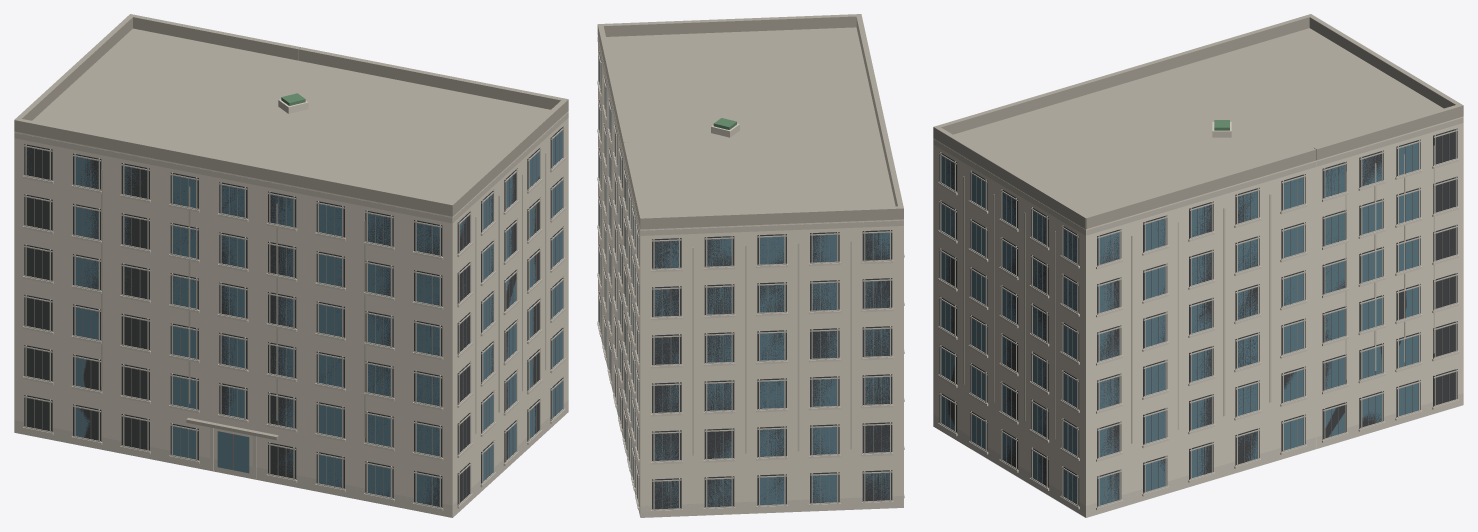
The model's file is cop_equipamento_especial_03__way_488128347.fbx.
3 views of the same model, side by side, from view 1: azimuth 30°, elevation 25°; view 2: azimuth 150°, elevation 25°; view 3: azimuth 270°, elevation 25° (orthographic). The views are drawn at different scales.
Parts seen in each view (by area): view 1: cop_equipamento_especial_03__way_488128347_wall, cop_equipamento_especial_03__way_488128347_roof, cop_equipamento_especial_03__way_488128347_glass, cop_equipamento_especial_03__way_488128347_shadow, cop_equipamento_especial_03__way_488128347_trim, cop_equipamento_especial_03__way_488128347_stone, cop_equipamento_especial_03__way_488128347_metal; view 2: cop_equipamento_especial_03__way_488128347_roof, cop_equipamento_especial_03__way_488128347_wall, cop_equipamento_especial_03__way_488128347_shadow, cop_equipamento_especial_03__way_488128347_glass, cop_equipamento_especial_03__way_488128347_trim, cop_equipamento_especial_03__way_488128347_stone, cop_equipamento_especial_03__way_488128347_metal; view 3: cop_equipamento_especial_03__way_488128347_wall, cop_equipamento_especial_03__way_488128347_roof, cop_equipamento_especial_03__way_488128347_glass, cop_equipamento_especial_03__way_488128347_trim, cop_equipamento_especial_03__way_488128347_shadow, cop_equipamento_especial_03__way_488128347_stone, cop_equipamento_especial_03__way_488128347_metal.
Part boxes in pixels (x1=…): cop_equipamento_especial_03__way_488128347_wall: x1=14, y1=111, x2=568, y2=517; cop_equipamento_especial_03__way_488128347_roof: x1=14, y1=14, x2=568, y2=440; cop_equipamento_especial_03__way_488128347_glass: x1=27, y1=130, x2=562, y2=506; cop_equipamento_especial_03__way_488128347_shadow: x1=24, y1=126, x2=563, y2=507; cop_equipamento_especial_03__way_488128347_trim: x1=14, y1=112, x2=568, y2=508; cop_equipamento_especial_03__way_488128347_stone: x1=14, y1=99, x2=568, y2=517; cop_equipamento_especial_03__way_488128347_metal: x1=34, y1=133, x2=559, y2=505; cop_equipamento_especial_03__way_488128347_roof: x1=597, y1=14, x2=903, y2=229; cop_equipamento_especial_03__way_488128347_wall: x1=598, y1=37, x2=903, y2=517; cop_equipamento_especial_03__way_488128347_shadow: x1=598, y1=52, x2=892, y2=509; cop_equipamento_especial_03__way_488128347_glass: x1=599, y1=58, x2=889, y2=508; cop_equipamento_especial_03__way_488128347_trim: x1=597, y1=36, x2=903, y2=510; cop_equipamento_especial_03__way_488128347_stone: x1=597, y1=80, x2=904, y2=517; cop_equipamento_especial_03__way_488128347_metal: x1=599, y1=60, x2=881, y2=508; cop_equipamento_especial_03__way_488128347_wall: x1=933, y1=116, x2=1463, y2=517; cop_equipamento_especial_03__way_488128347_roof: x1=933, y1=14, x2=1463, y2=229; cop_equipamento_especial_03__way_488128347_glass: x1=941, y1=142, x2=1418, y2=505; cop_equipamento_especial_03__way_488128347_trim: x1=933, y1=118, x2=1463, y2=507; cop_equipamento_especial_03__way_488128347_shadow: x1=939, y1=128, x2=1457, y2=507; cop_equipamento_especial_03__way_488128347_stone: x1=933, y1=122, x2=1463, y2=517; cop_equipamento_especial_03__way_488128347_metal: x1=945, y1=134, x2=1449, y2=503.
Size of the model in its own units: 2733 by 1869 by 2996.
